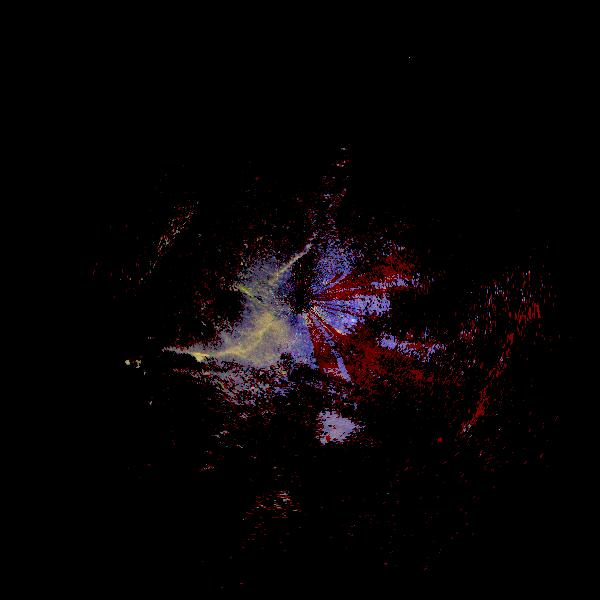roost: (147, 330, 210, 393)
